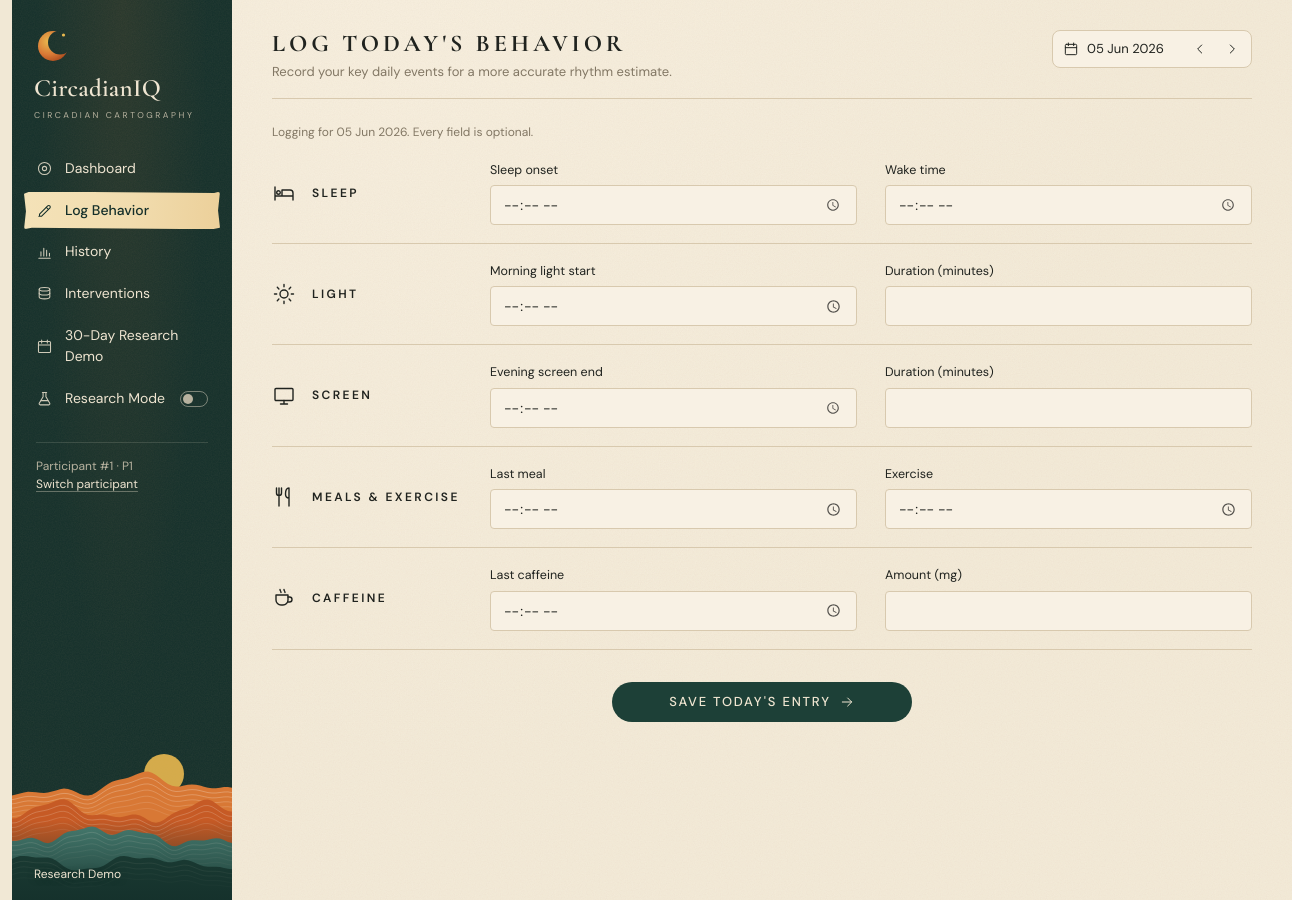
it: Request payloads (regression: actions use the latest form values) › sends the values typed into the daily-entry form
The image size is (1292, 900).
Type "23:30" into the time field labelled "Sleep onset".
click(674, 205); type("23:30")  # box [490, 185, 857, 225]
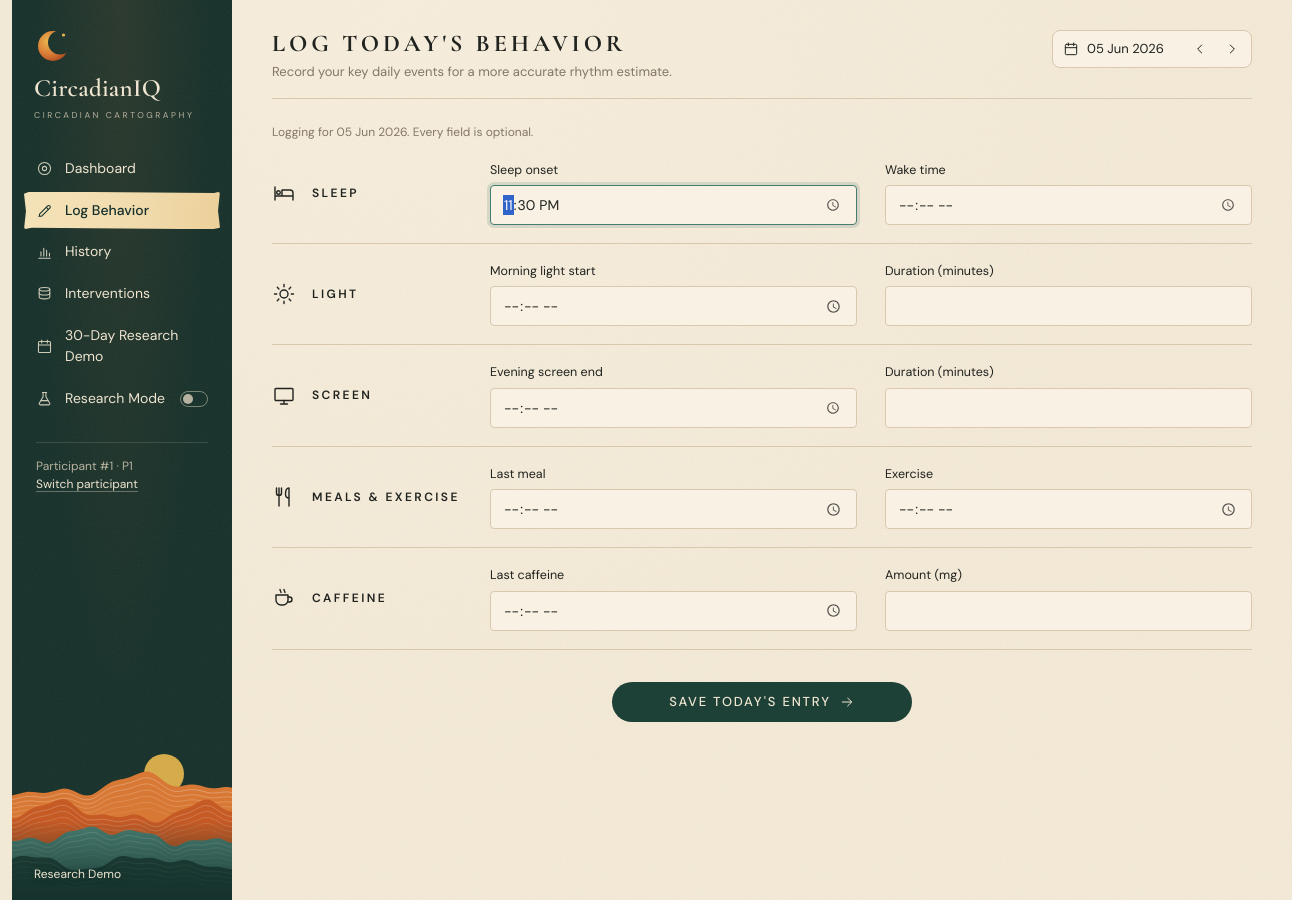
Type "45" into the 1st number field labelled "Duration (minutes)".
click(1068, 306); type("45")  # box [885, 286, 1252, 326]
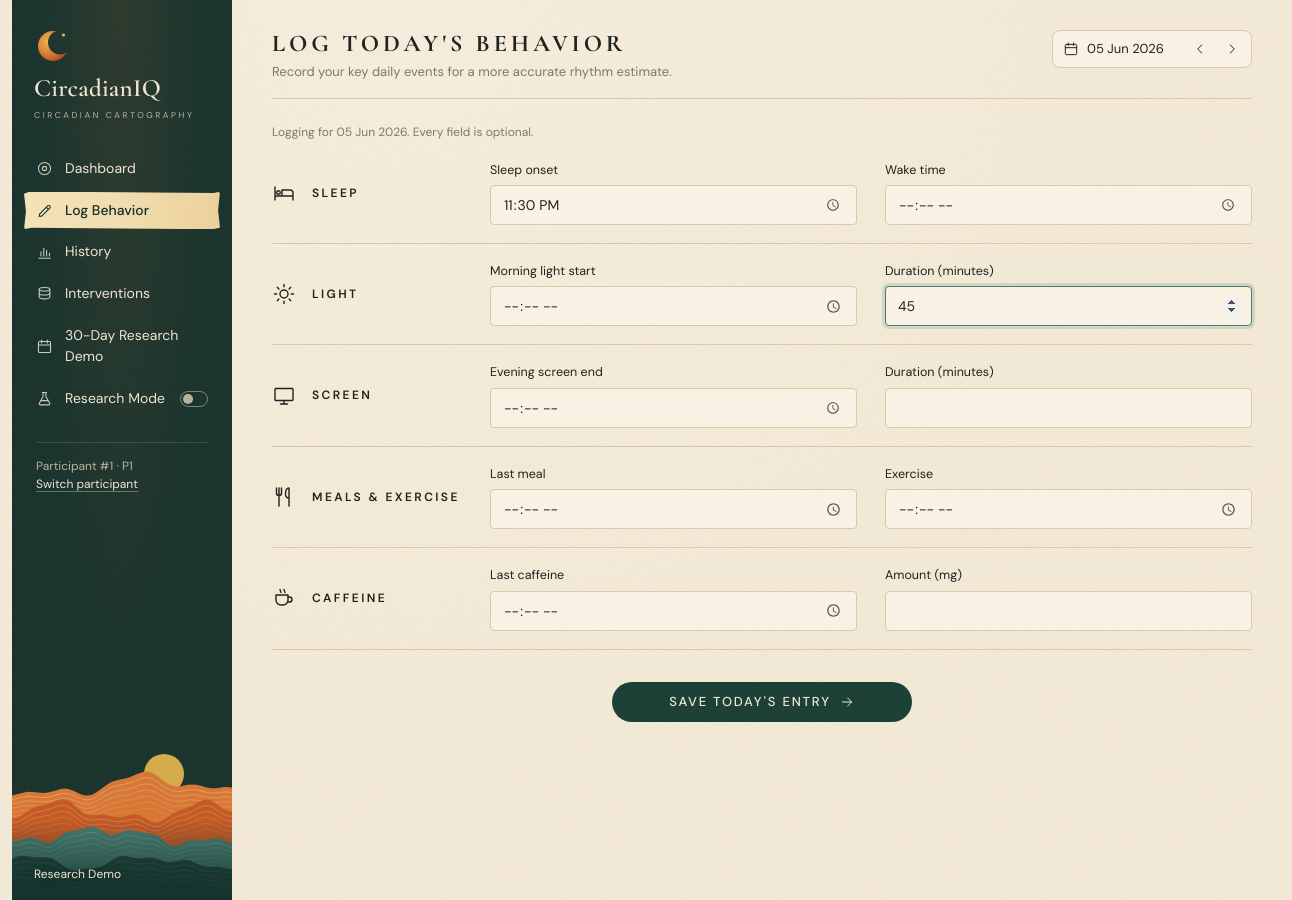
Type "80" into the number field labelled "Amount (mg)".
click(1068, 611); type("80")  # box [885, 591, 1252, 631]
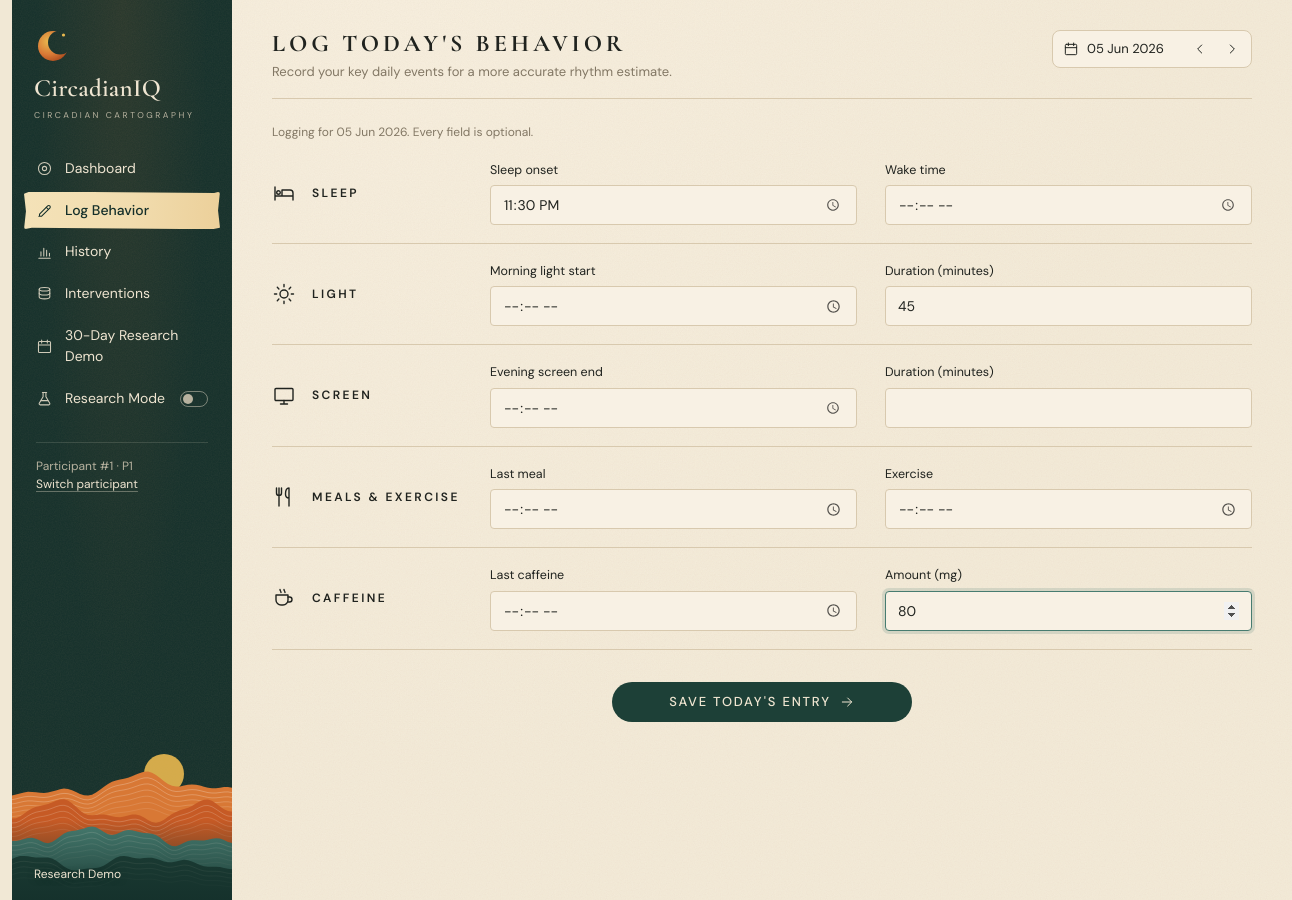
Click the button "Save today's entry".
click(762, 702)  # box [612, 682, 912, 722]
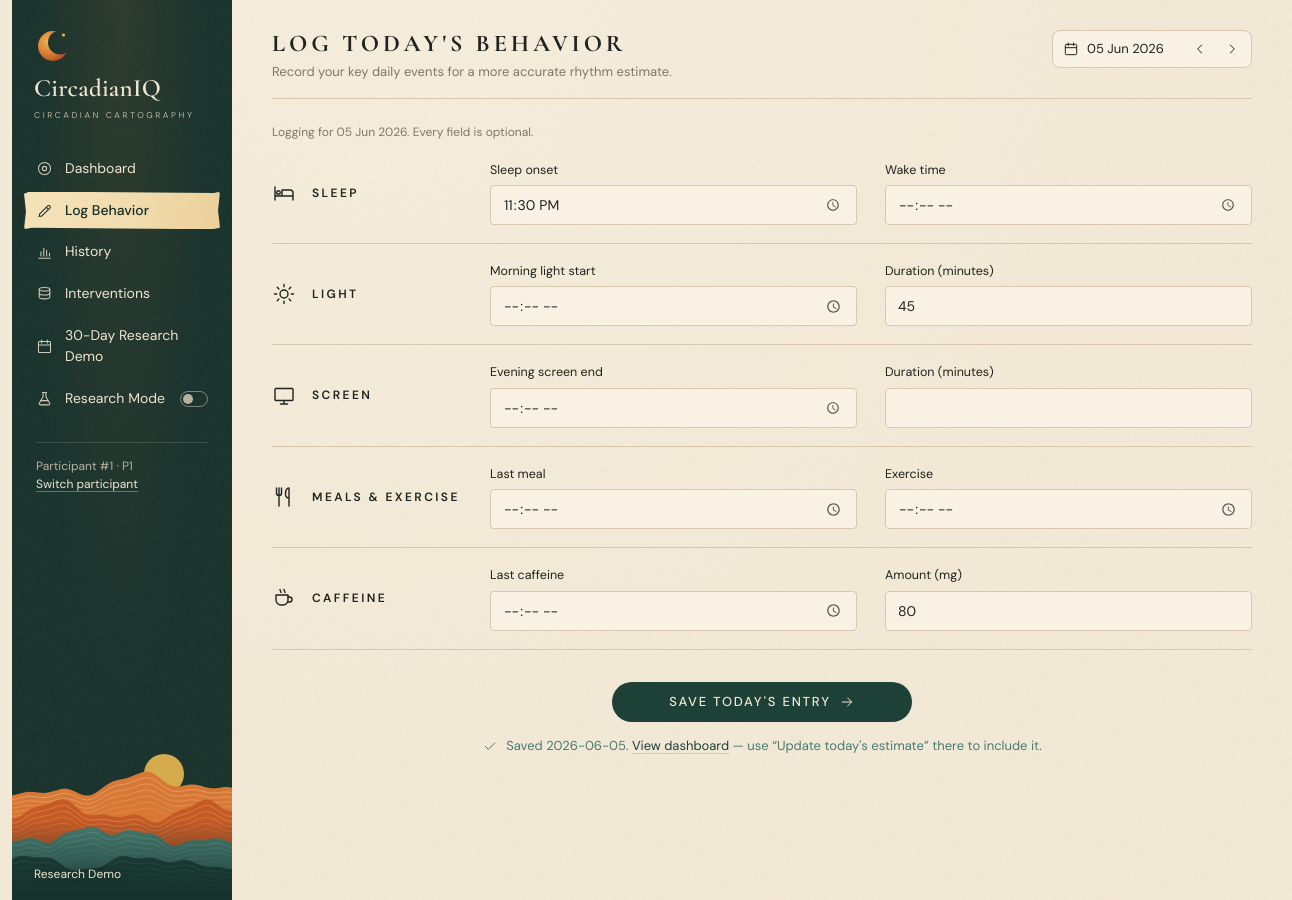
Result: the text "Saved 2026-06-05" is shown at [506, 736, 1042, 756]
